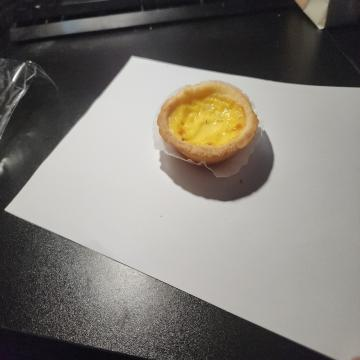EggTart: (156, 78, 258, 166)
